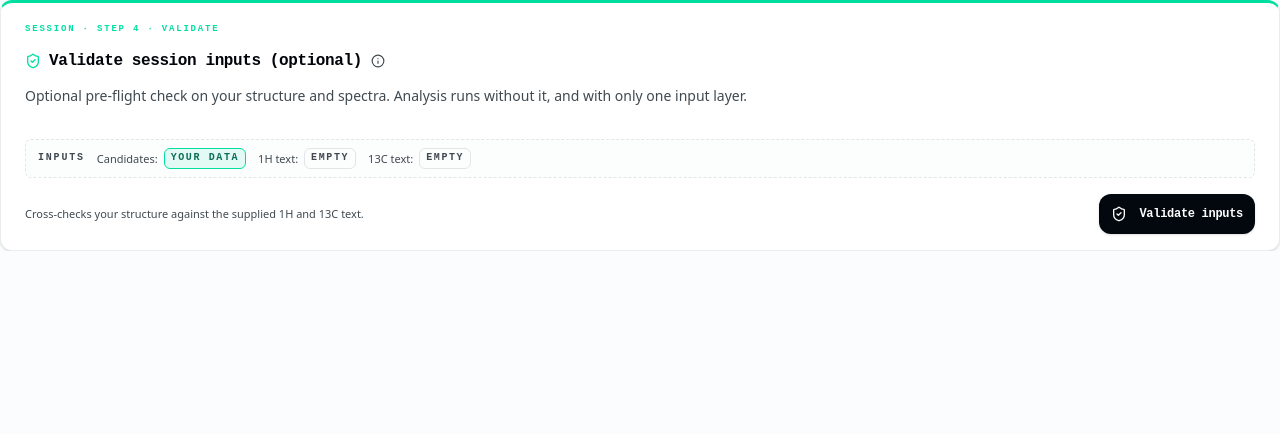
Test: SessionValidateCard — backend roundtrip › renders 'Partial inputs' status when only SMILES is supplied
The image size is (1280, 434).
Click the button with test id "session-validate-button" at (1177, 214), box x1=1100 y1=194 x2=1255 y2=234
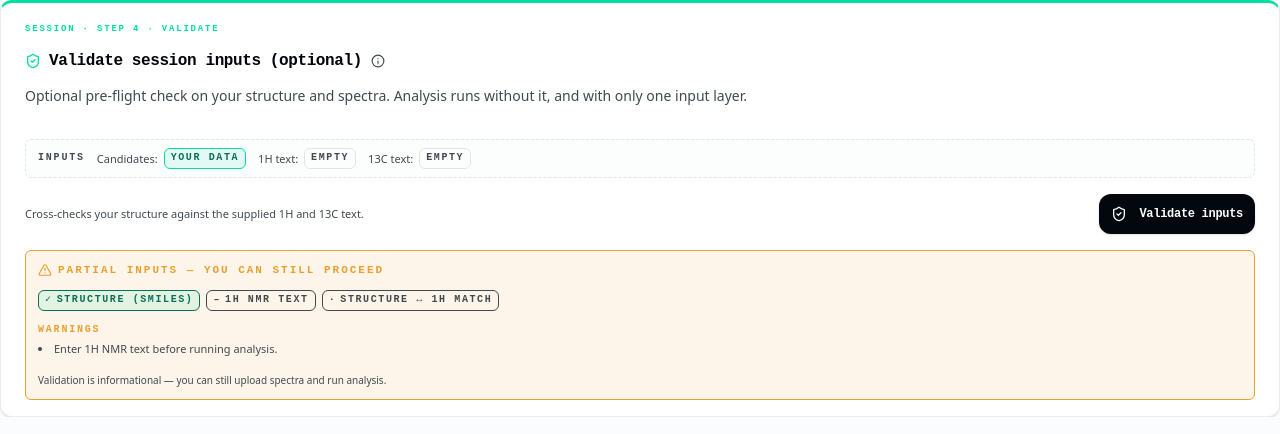
Expected: the text "Partial inputs — you can still proceed" is shown, x1=38 y1=263 x2=384 y2=277
